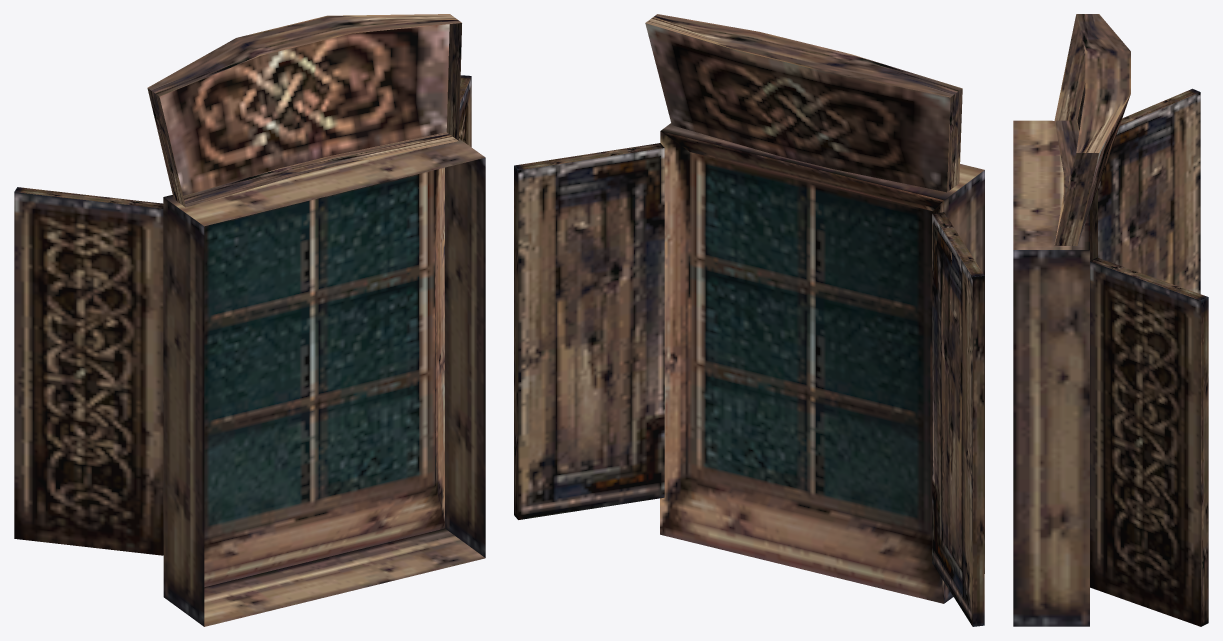
File: loc2_20.glb
3 views of the same model, side by side, from view 1: azimuth 30°, elevation 25°; view 2: azimuth 150°, elevation 25°; view 3: azimuth 270°, elevation 25° (orthographic). The views are drawn at different scales.
Parts seen in each view (by area): view 1: loc2_20-col; view 2: loc2_20-col; view 3: loc2_20-col.
Boxes of the visible parts, x1=… form: loc2_20-col: x1=14, y1=14, x2=485, y2=626; loc2_20-col: x1=514, y1=14, x2=984, y2=626; loc2_20-col: x1=1013, y1=14, x2=1208, y2=626.
Bounding box in the file's own units: 2.17 × 2.33 × 0.8433.
Materials: 1 (1 with a texture image).
